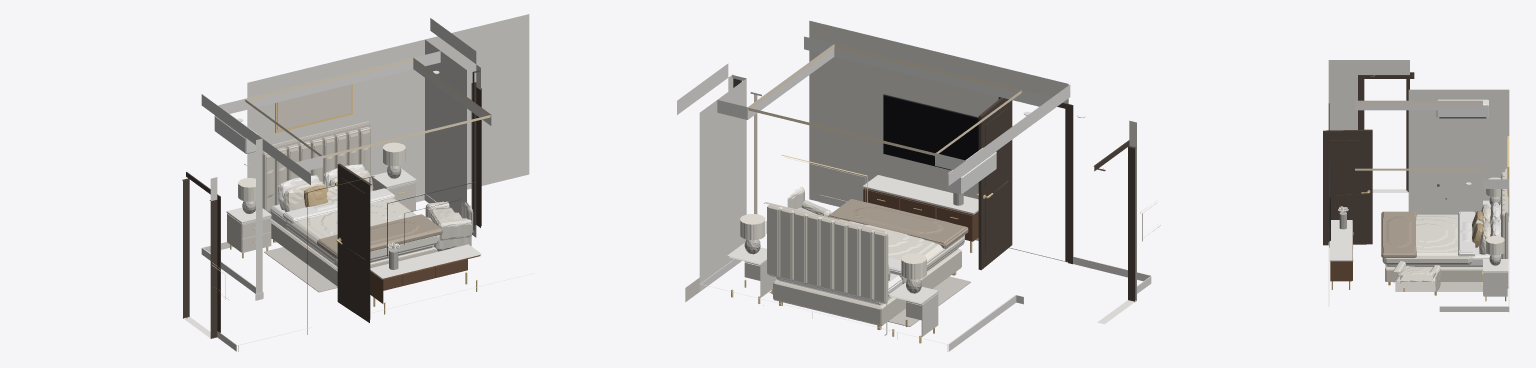
The model's file is MASTER.glb.
The picture shows the model from 3 angles, left to right: view 1: azimuth 30°, elevation 25°; view 2: azimuth 150°, elevation 25°; view 3: azimuth 270°, elevation 25°; orthographic projection. The views are drawn at different scales.
Parts seen in each view (by area): view 1: WEB_MASTER; view 2: WEB_MASTER; view 3: WEB_MASTER.
Boxes of the visible parts, x1=… form: WEB_MASTER: x1=182, y1=14, x2=534, y2=351; WEB_MASTER: x1=677, y1=20, x2=1160, y2=351; WEB_MASTER: x1=1323, y1=60, x2=1509, y2=311.
Bounding box in the file's own units: 8.4 × 2.91 × 3.51.
